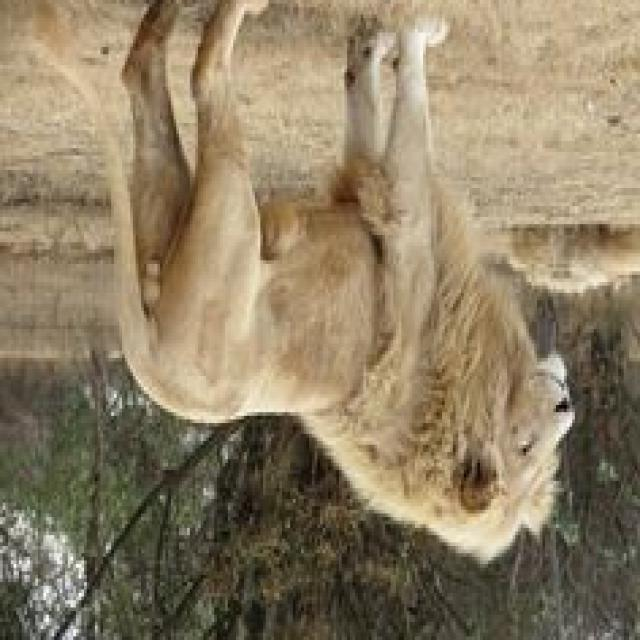lions: (13, 0, 630, 602)
